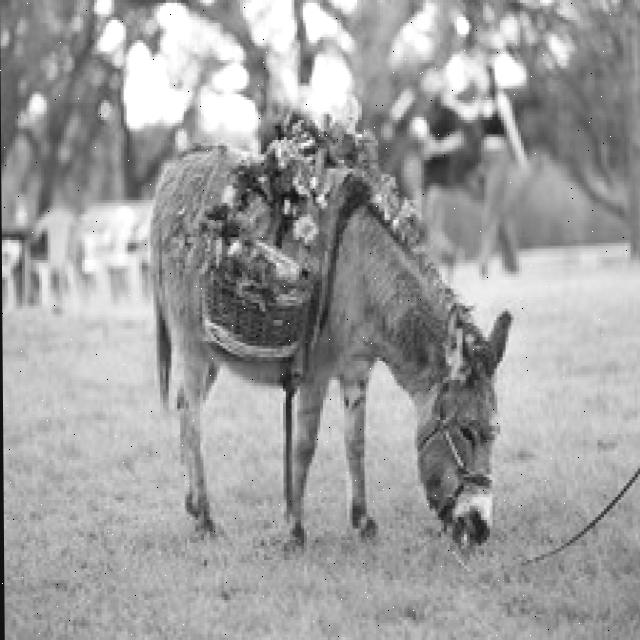Donkey: (144, 140, 512, 551)
